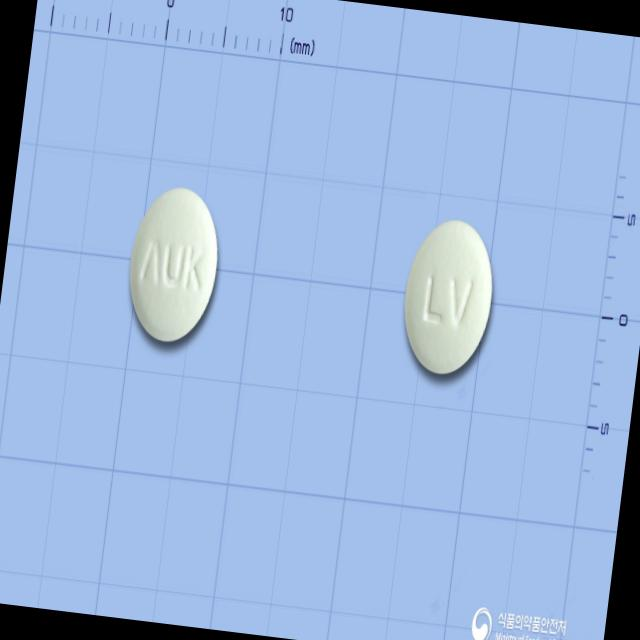Levox: (121, 180, 227, 347), (396, 215, 500, 378)
